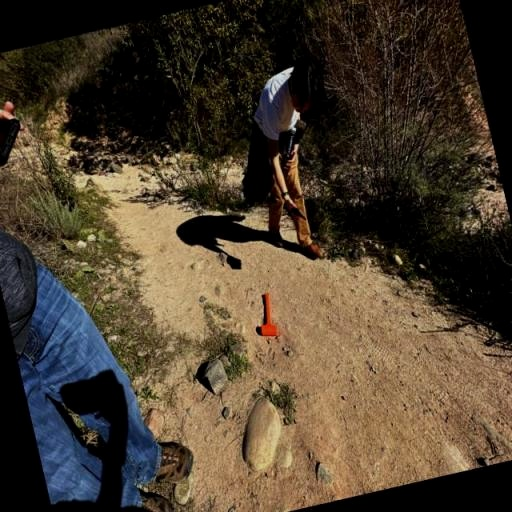mallet: (253, 292, 278, 338)
